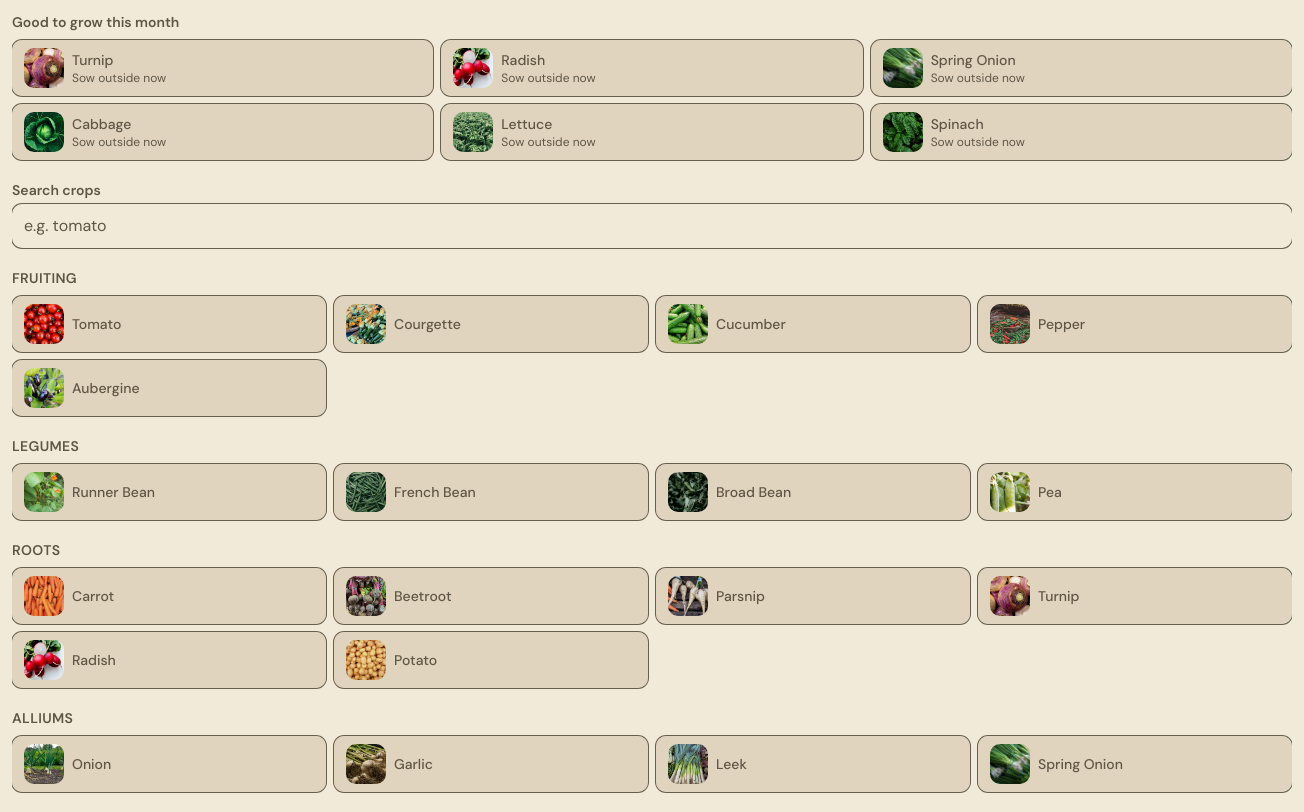
Test case: VegetableGrid › explains when a crop search has no matches and lets the gardener clear it
Type "not-a-crop" into the search field labelled "Search crops" at (652, 226), box [12,204,1292,248]
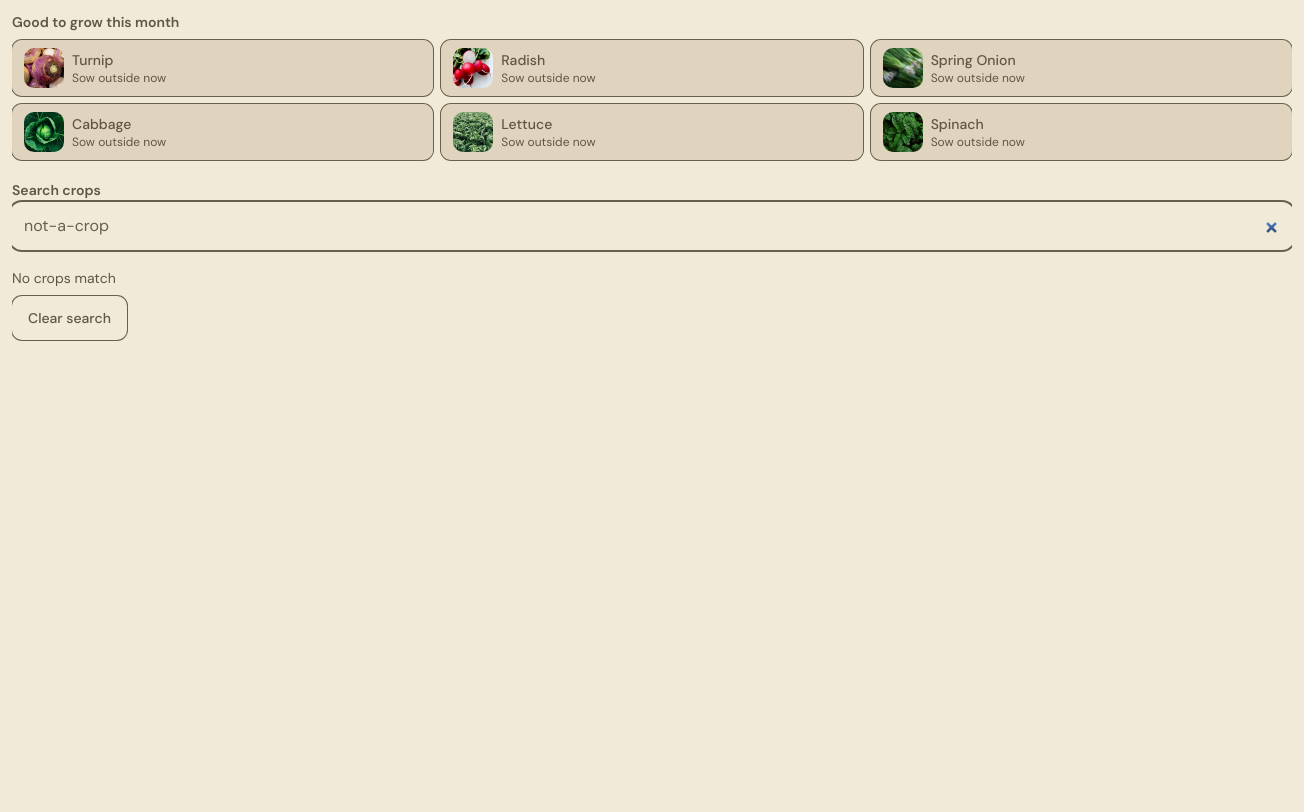
Now the text "No crops match" is shown, box [12,269,116,287]
Click the button "Clear search" at (69, 318), box [12,296,127,340]
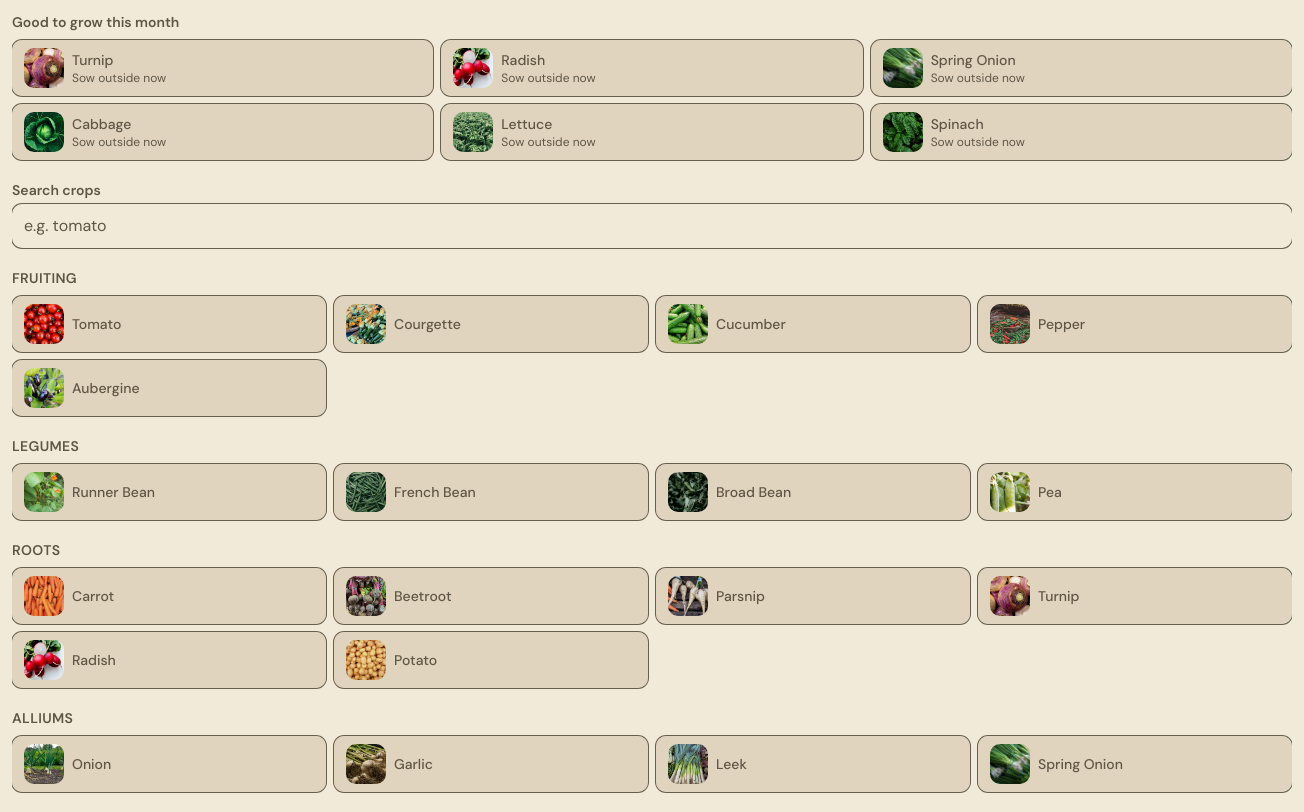
Now the button "Tomato" is shown, box [12,296,326,352]
